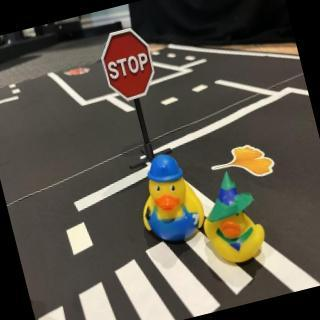duck_regular: (193, 167, 271, 271)
duck_specialty: (130, 148, 212, 251)
road_crosswalk: (20, 204, 262, 320)
sign_stop: (96, 26, 162, 108)
